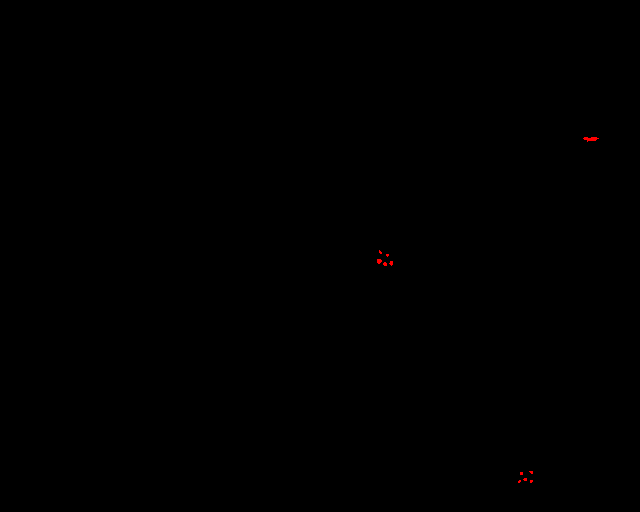Target: (583, 137, 599, 142), (377, 259, 382, 264), (389, 261, 393, 266), (383, 262, 387, 266), (379, 250, 382, 254), (529, 471, 533, 474), (523, 478, 527, 481), (386, 254, 389, 257), (520, 472, 523, 475), (518, 480, 521, 483), (530, 480, 533, 483)
